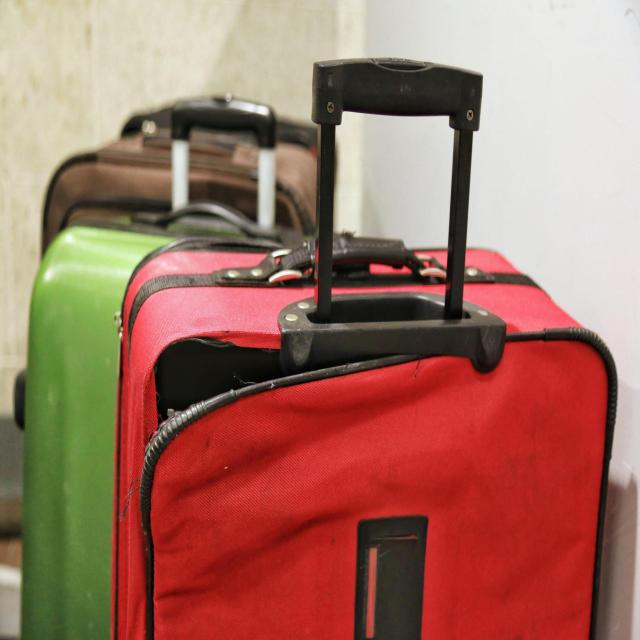Damage-bag: (154, 330, 375, 420), (119, 369, 158, 640)
